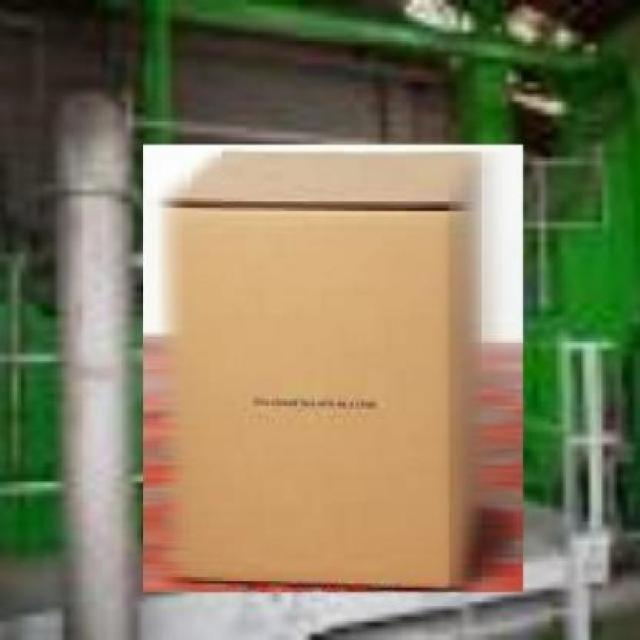box: (137, 138, 531, 600)
